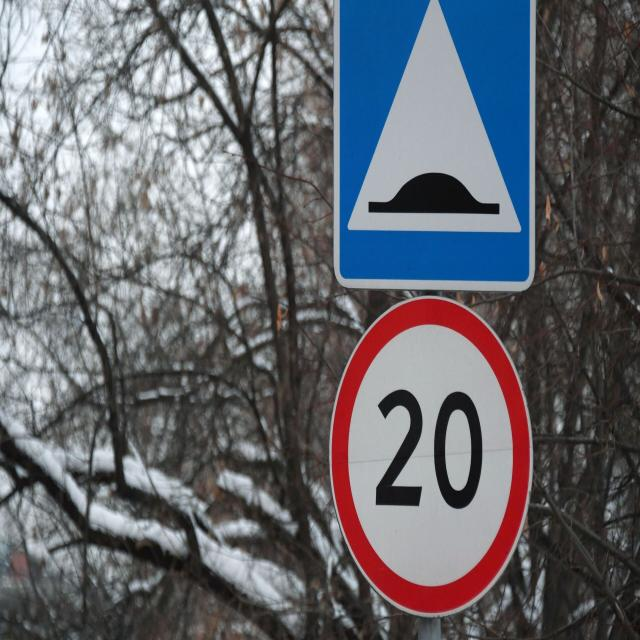Traffic sign: (323, 294, 538, 614), (334, 0, 537, 295)
